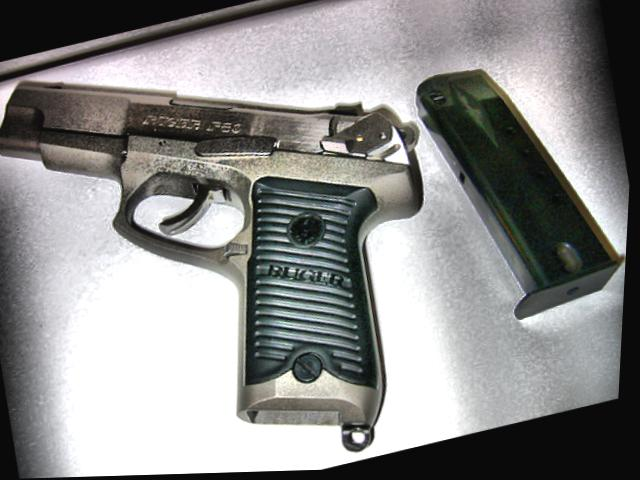pistol: (0, 0, 480, 480)
